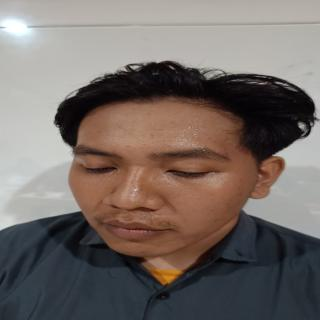Sedih: (57, 96, 277, 263)
